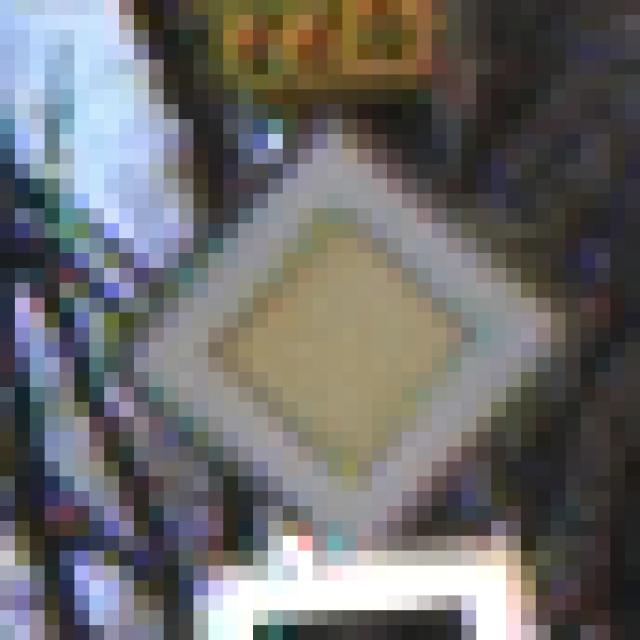Main Road: (76, 76, 567, 567)
